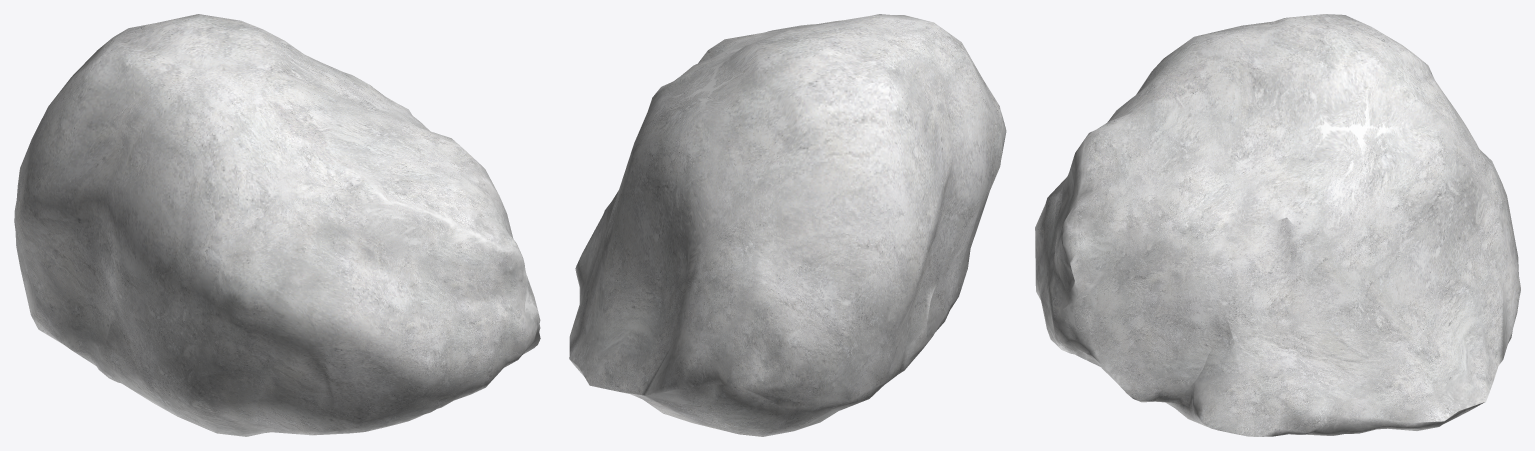
Rendered from rock_00B.fbx.
The picture shows the model from 3 angles, left to right: view 1: azimuth 30°, elevation 25°; view 2: azimuth 150°, elevation 25°; view 3: azimuth 270°, elevation 25°; orthographic projection. The views are drawn at different scales.
Visible parts, largest first — view 1: rock_00B; view 2: rock_00B; view 3: rock_00B.
Boxes of the visible parts, <box> form: rock_00B: <box>14,14,540,436</box>; rock_00B: <box>569,14,1006,436</box>; rock_00B: <box>1035,14,1520,436</box>.
Bounding box in the file's own units: 235 × 210 × 266.
